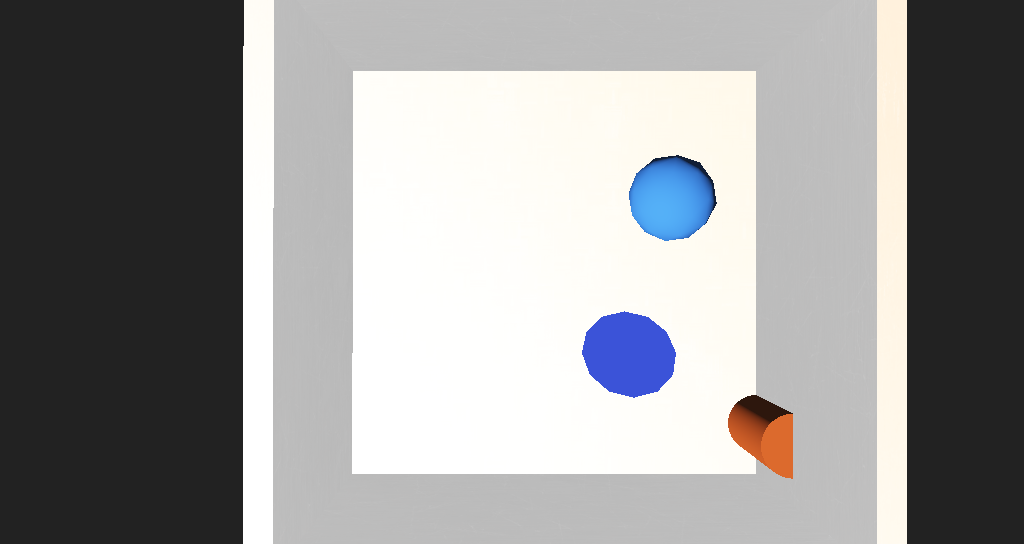cone: (637, 334, 697, 372)
cylinder: (519, 286, 586, 353)
sphere: (563, 205, 623, 253)
